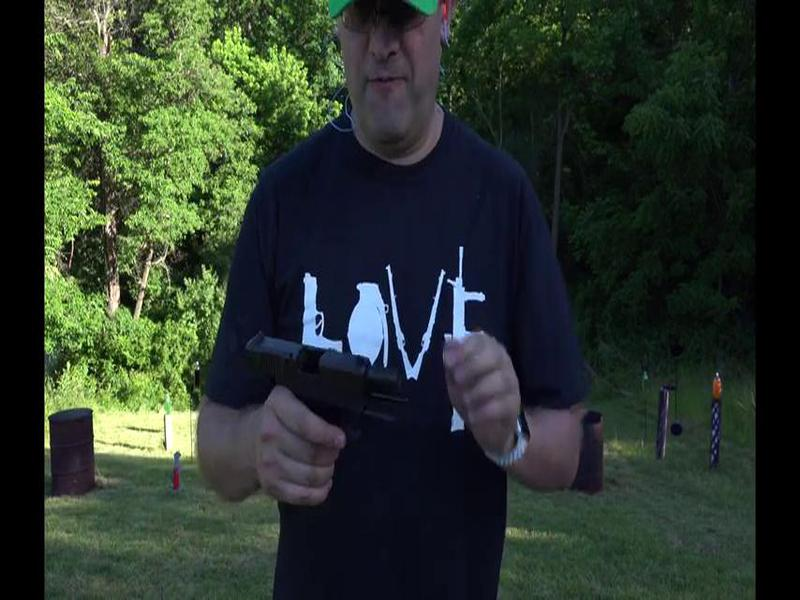Pistola: (240, 325, 412, 470)
